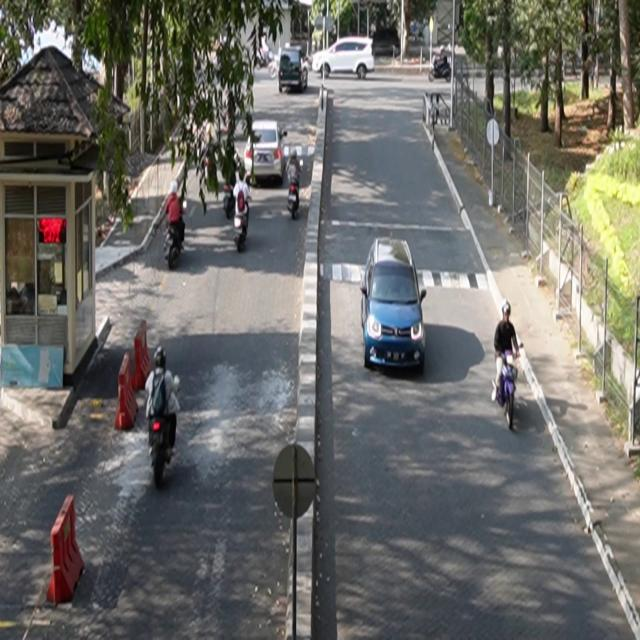car: (361, 238, 428, 373), (245, 120, 289, 185)
